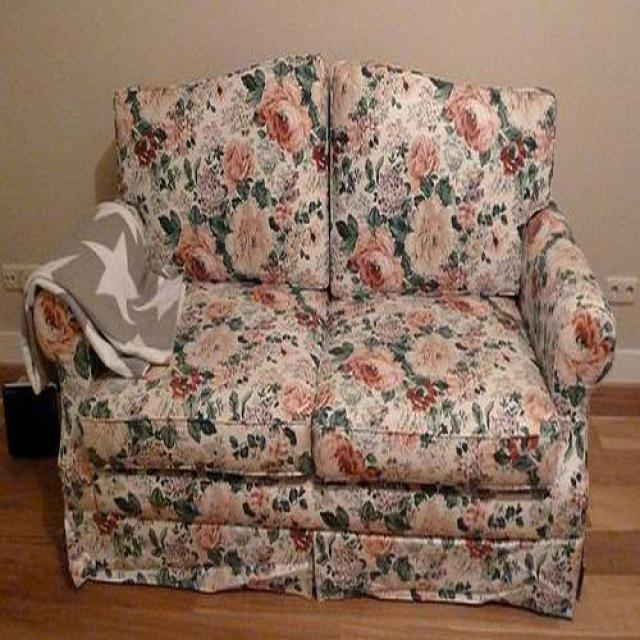sofa: (23, 54, 617, 623)
